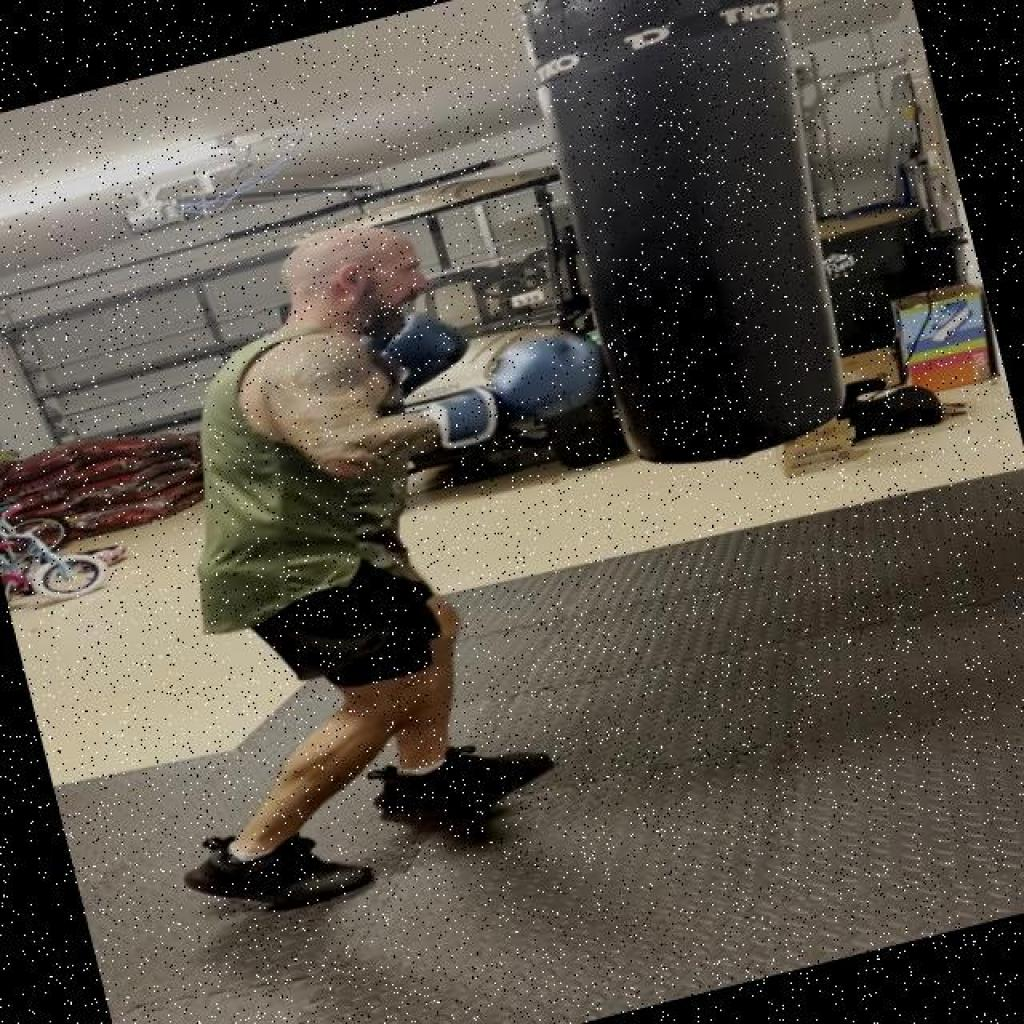bag: (494, 2, 894, 492)
hook: (160, 162, 661, 526)
